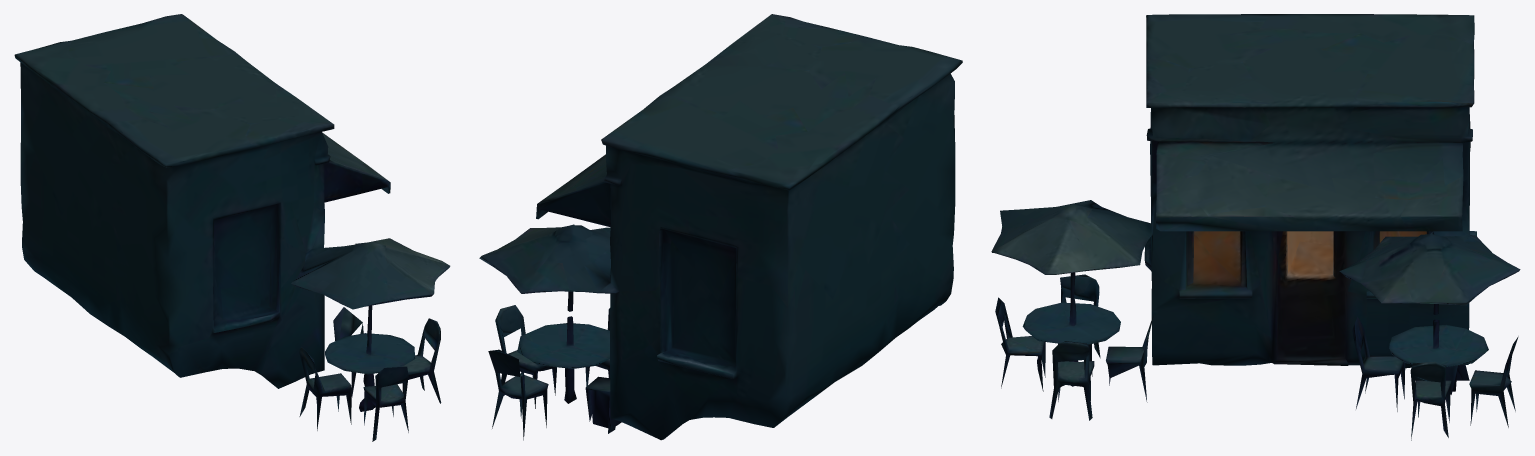
File: 3d-kawiarnia.glb
3 renders of one model, left to right at view 1: azimuth 30°, elevation 25°; view 2: azimuth 150°, elevation 25°; view 3: azimuth 270°, elevation 25°, orthographic. The views are drawn at different scales.
Parts seen in each view (by area): view 1: tripo_node_97981528-4612-4c4b-ae96-a1b1df0f8a67; view 2: tripo_node_97981528-4612-4c4b-ae96-a1b1df0f8a67; view 3: tripo_node_97981528-4612-4c4b-ae96-a1b1df0f8a67.
Boxes of the visible parts, <box> form: tripo_node_97981528-4612-4c4b-ae96-a1b1df0f8a67: <box>14,14,450,441</box>; tripo_node_97981528-4612-4c4b-ae96-a1b1df0f8a67: <box>479,14,962,440</box>; tripo_node_97981528-4612-4c4b-ae96-a1b1df0f8a67: <box>991,14,1520,440</box>.
Size of the model in its own units: 0.6549 by 0.6001 by 1.
1 material, 1 textured.
